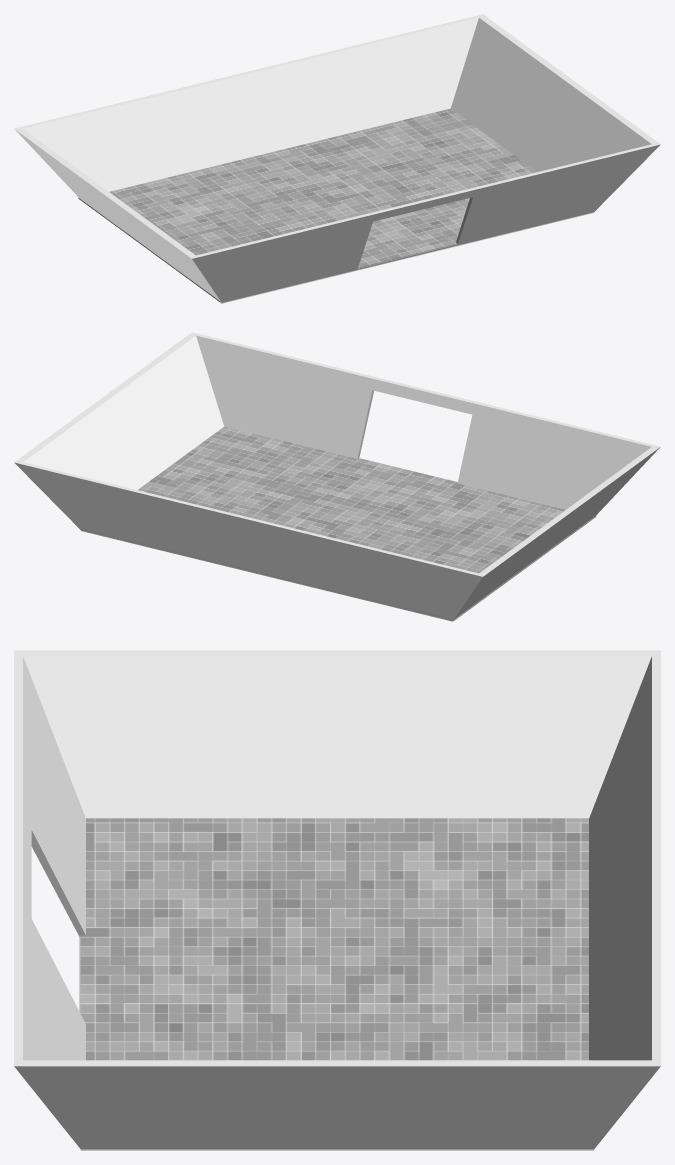
File: Room9.obj
The picture shows the model from 3 angles, top to bottom: view 1: azimuth 30°, elevation 25°; view 2: azimuth 150°, elevation 25°; view 3: azimuth 270°, elevation 25°; orthographic projection. The views are drawn at different scales.
Visible parts, largest first — view 1: Room2, Piso1; view 2: Room2, Piso1; view 3: Room2, Piso1.
Boxes of the visible parts, x1,y1,x2,y2 form: Room2: (14, 14, 660, 303); Piso1: (78, 108, 537, 302); Room2: (14, 332, 660, 621); Piso1: (80, 426, 596, 620); Room2: (14, 650, 660, 1150); Piso1: (80, 818, 588, 1060).
Bounding box in the file's own units: 35 × 5 × 23.
